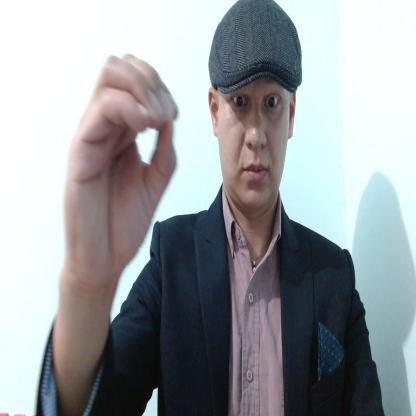O: (60, 52, 182, 279)
